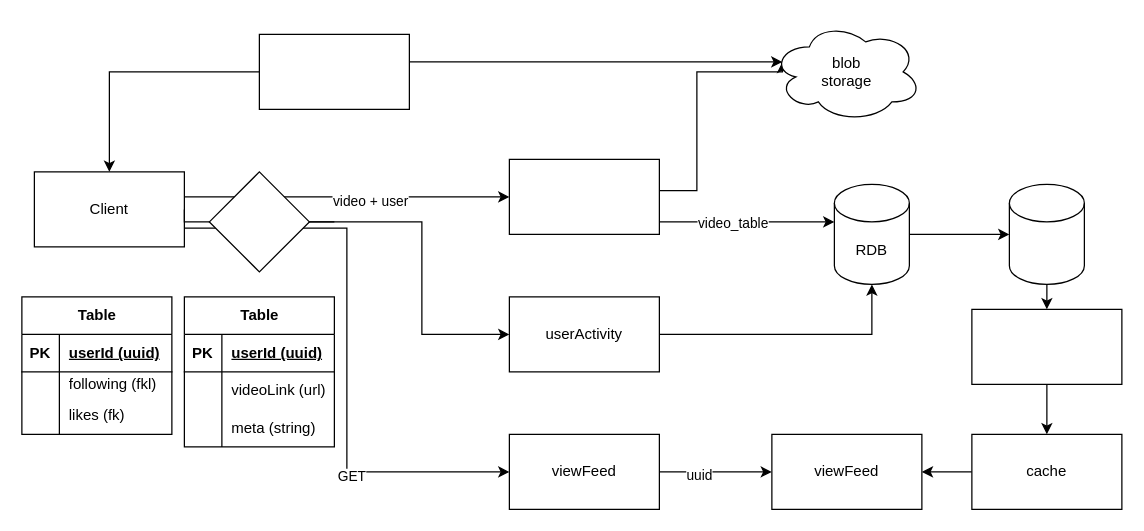
This 1144x531 diagram has some shape labels left out. The shapes that lost their labels are listed below. From the top down, each one's centre as x and y in pixels, then its label:
At point 333,71: "CDN".
At point 583,196: "uploadVideo".
At point 258,221: "load balancer".
At point 1046,233: "RDB read-only".
At point 1046,346: "precache_service".
